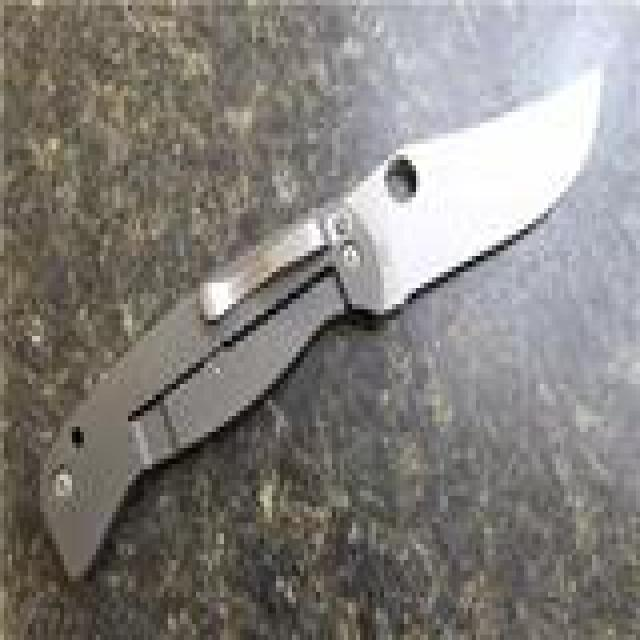Knife: (33, 61, 606, 578)
